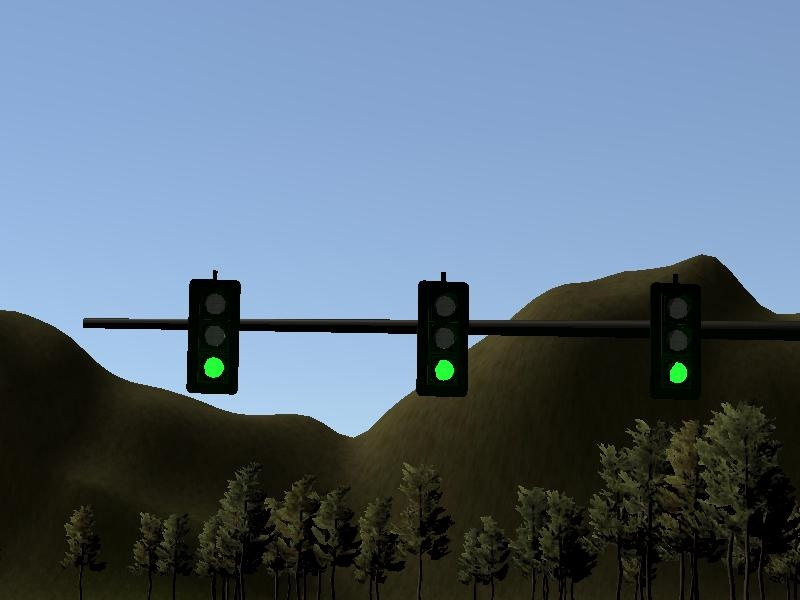GREEN: (187, 280, 237, 392), (417, 281, 467, 393), (650, 283, 700, 395)
